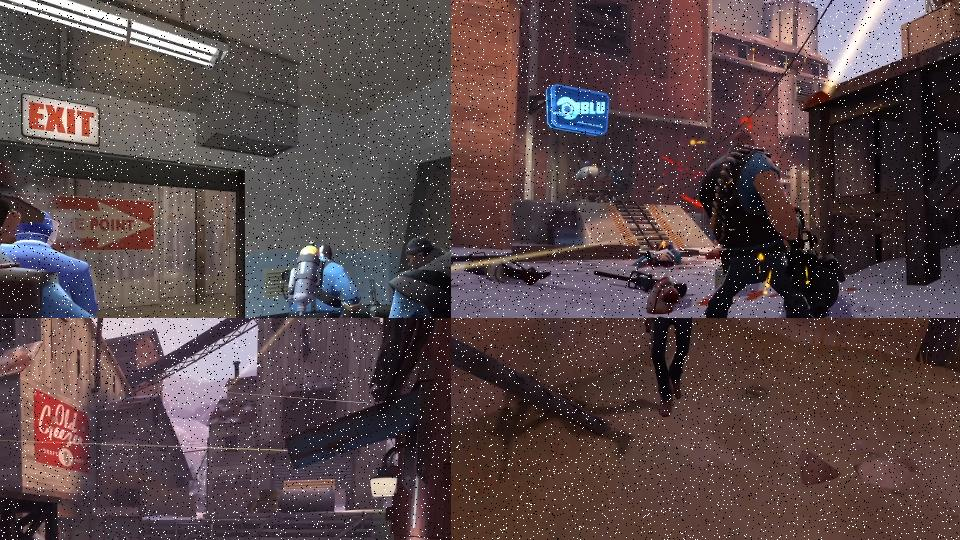Enemy: (696, 129, 847, 318), (0, 156, 164, 318), (622, 318, 717, 422), (265, 240, 363, 318), (632, 241, 682, 269)
